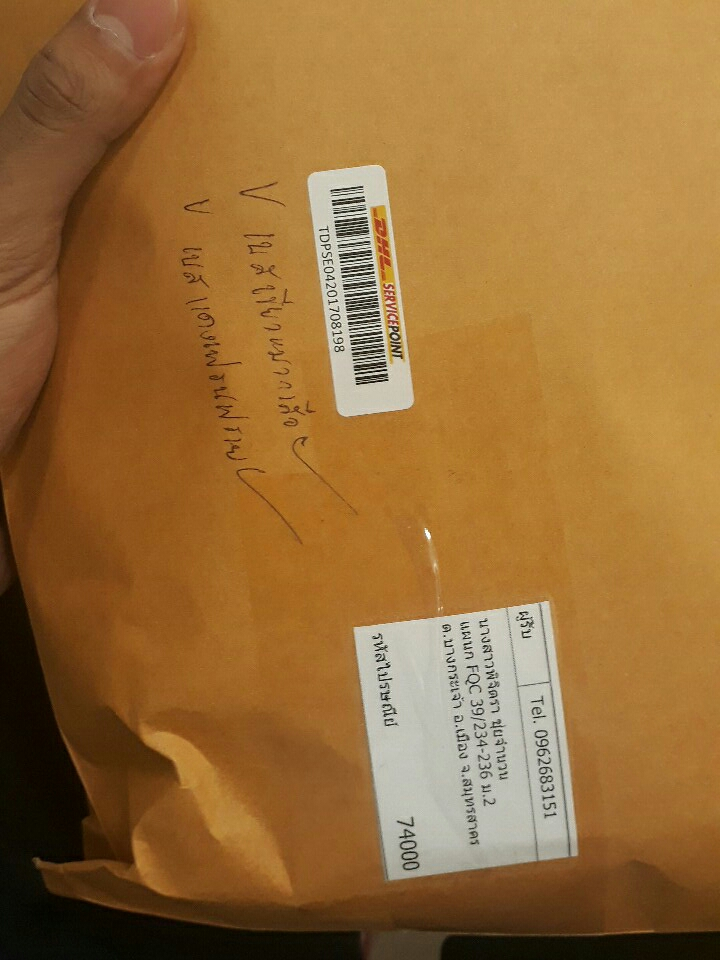ba: (304, 161, 420, 426)
txt: (367, 608, 564, 874)
